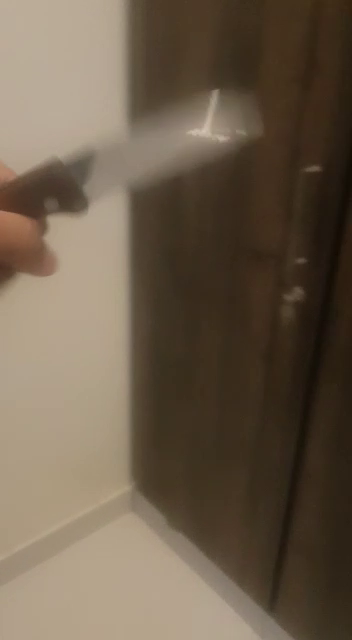knife: (5, 83, 269, 271)
